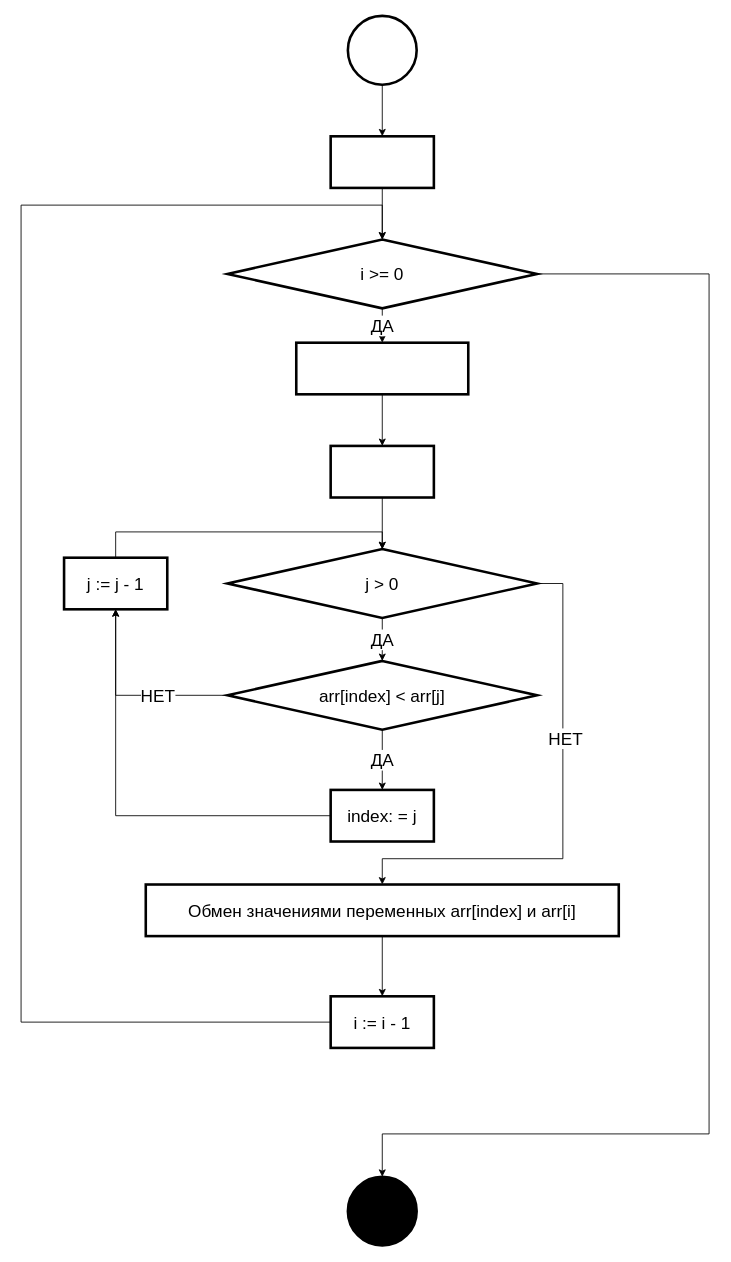
Some shapes in this 731 by 1262 pixel diagram are drawn without their labels. Here are the shapes that lost their labels. From the top down, the box of each, then its label:
(329, 135, 435, 189): i := Размер массива - 1
(295, 341, 469, 395): index := i
(329, 444, 435, 498): j := i - 1
